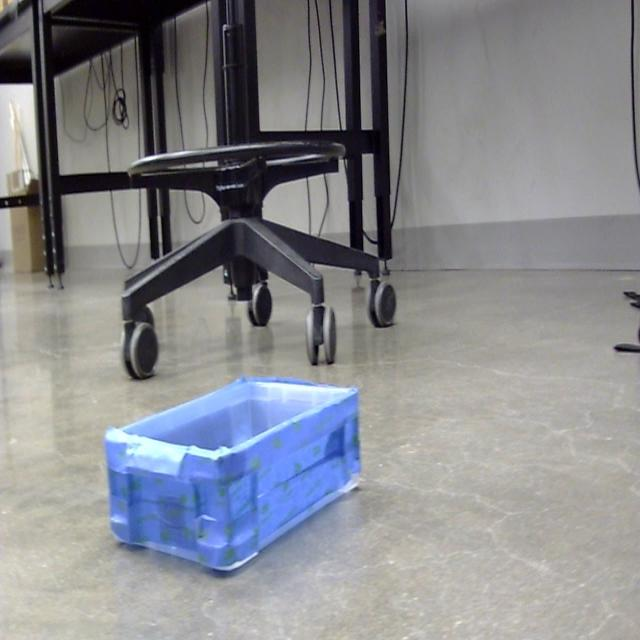bucket: (102, 377, 362, 578)
